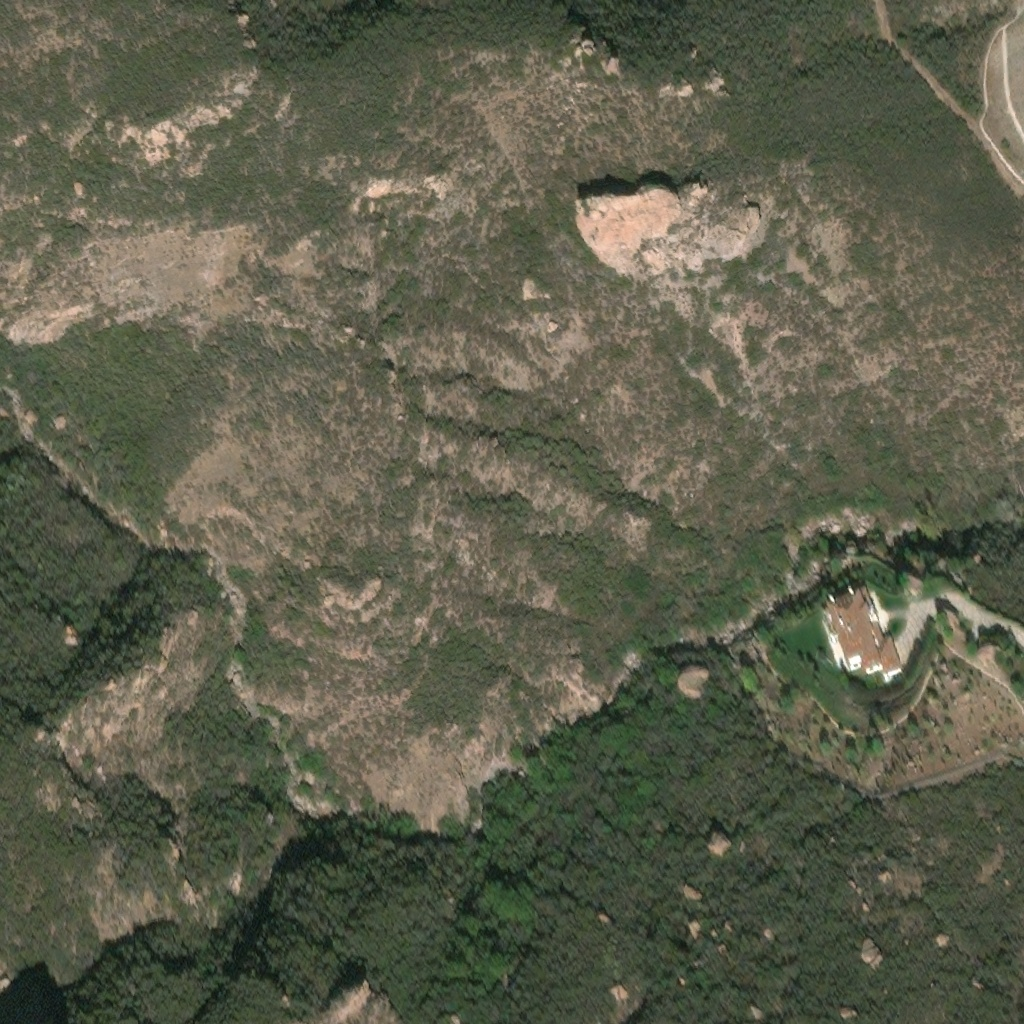0 no-damage: (825, 586, 898, 669)
